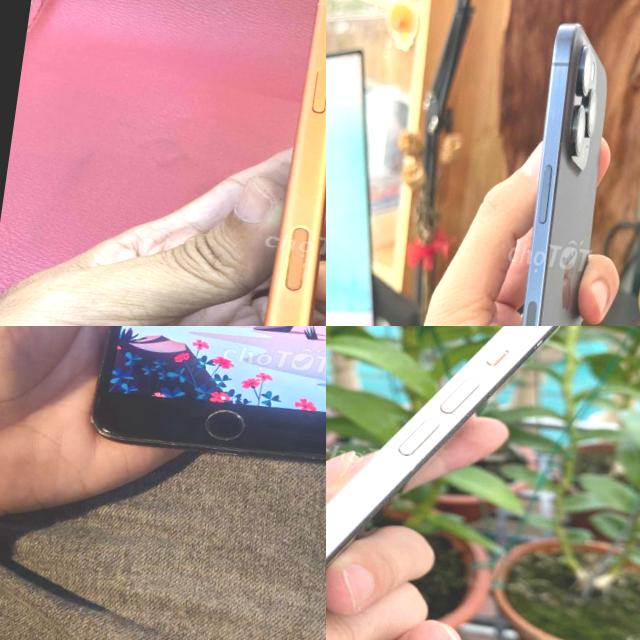scratch: (139, 428, 326, 469), (195, 400, 254, 445), (85, 413, 118, 441), (518, 320, 525, 326)
